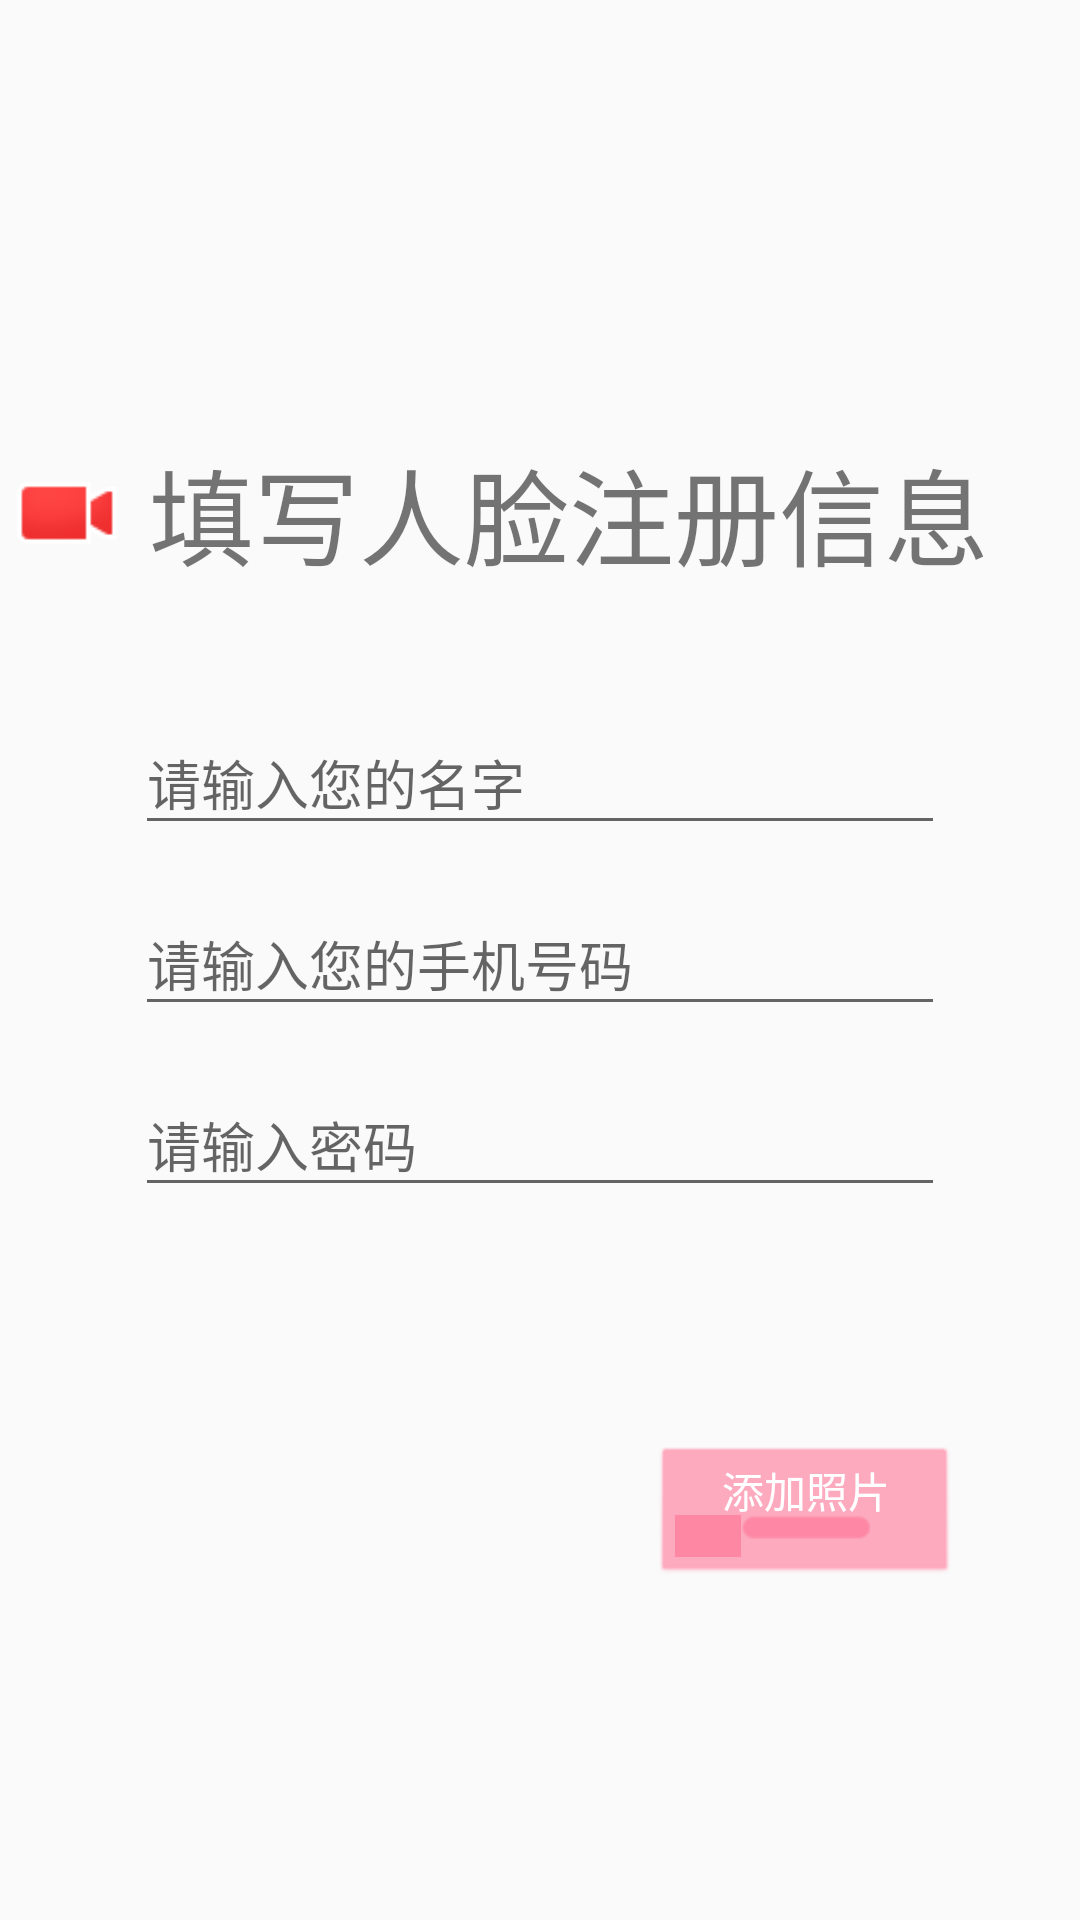

Screen size 1080x1920. Icon name, then its box in pixels as (x1, y1, x2, y2):
presence video busy: (21, 486, 113, 540)
